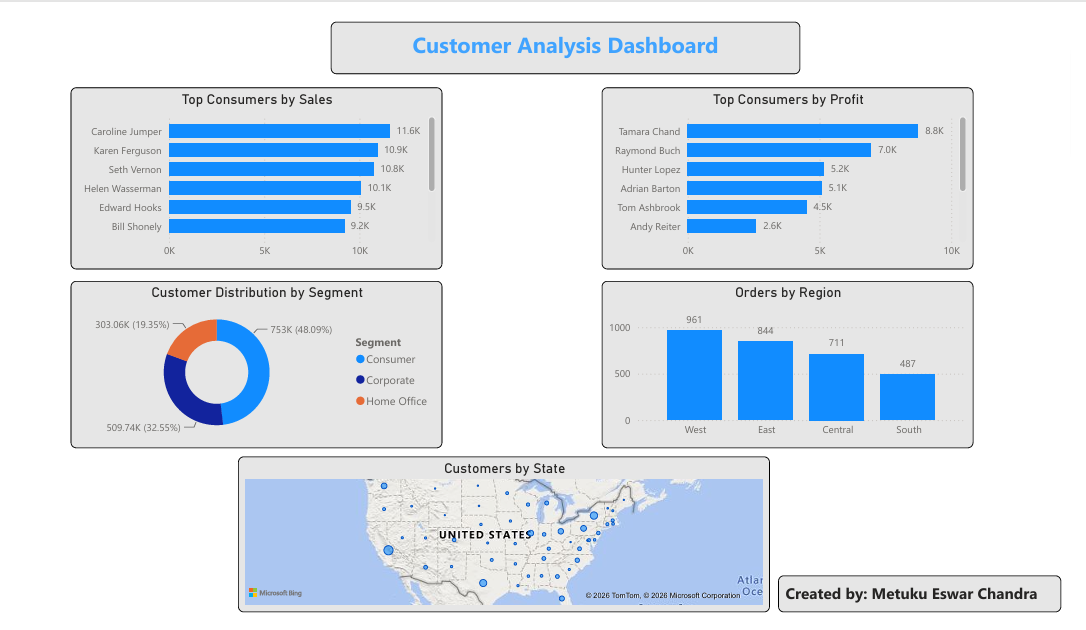

The dashboard page shown, as its layout file describes it:
{"tool":"powerbi","page":{"name":"Customer Analysis","canvas":[1280,720],"ordinal":4},"visuals":[{"type":"clusteredBarChart","title":"Top Consumers by Sales","fields":{"Category":["Orders.Customer Name"],"Y":["Sum(Orders.Sales)"]},"box":[61.7,79.6,452.8,222.3],"z":0},{"type":"clusteredBarChart","title":"Top Consumers by Profit","fields":{"Category":["Orders.Customer Name"],"Y":["Sum(Orders.Profit)"]},"box":[709.4,79.6,452.8,222.3],"z":1},{"type":"donutChart","title":"Customer Distribution by Segment","fields":{"Category":["Orders.Segment"],"Y":["Sum(Orders.Sales)"]},"box":[61.7,315.6,452.8,204.5],"z":2},{"type":"clusteredColumnChart","title":"Orders by Region","fields":{"Category":["Orders.Region"],"Y":["Orders.Total Orders"]},"box":[709.4,315.6,452.8,204.5],"z":3},{"type":"map","title":"Customers by State","fields":{"Category":["Orders.State"],"Size":["Orders.Total Customers"]},"box":[266.2,529.7,647.7,190.7],"z":4},{"type":"textbox","box":[923.5,675.1,345.8,45.3],"z":5},{"type":"textbox","box":[378.7,0,572.2,64.5],"z":6}]}

Visuals, with their boxes in screenshot pixels (x1, y1, x2, y2):
"Top Consumers by Sales" clusteredBarChart: <box>72,90,438,269</box>
"Top Consumers by Profit" clusteredBarChart: <box>595,90,961,269</box>
"Customer Distribution by Segment" donutChart: <box>72,280,438,445</box>
"Orders by Region" clusteredColumnChart: <box>595,280,961,445</box>
"Customers by State" map: <box>237,453,760,607</box>
textbox: <box>768,570,1047,607</box>
textbox: <box>328,25,790,78</box>
